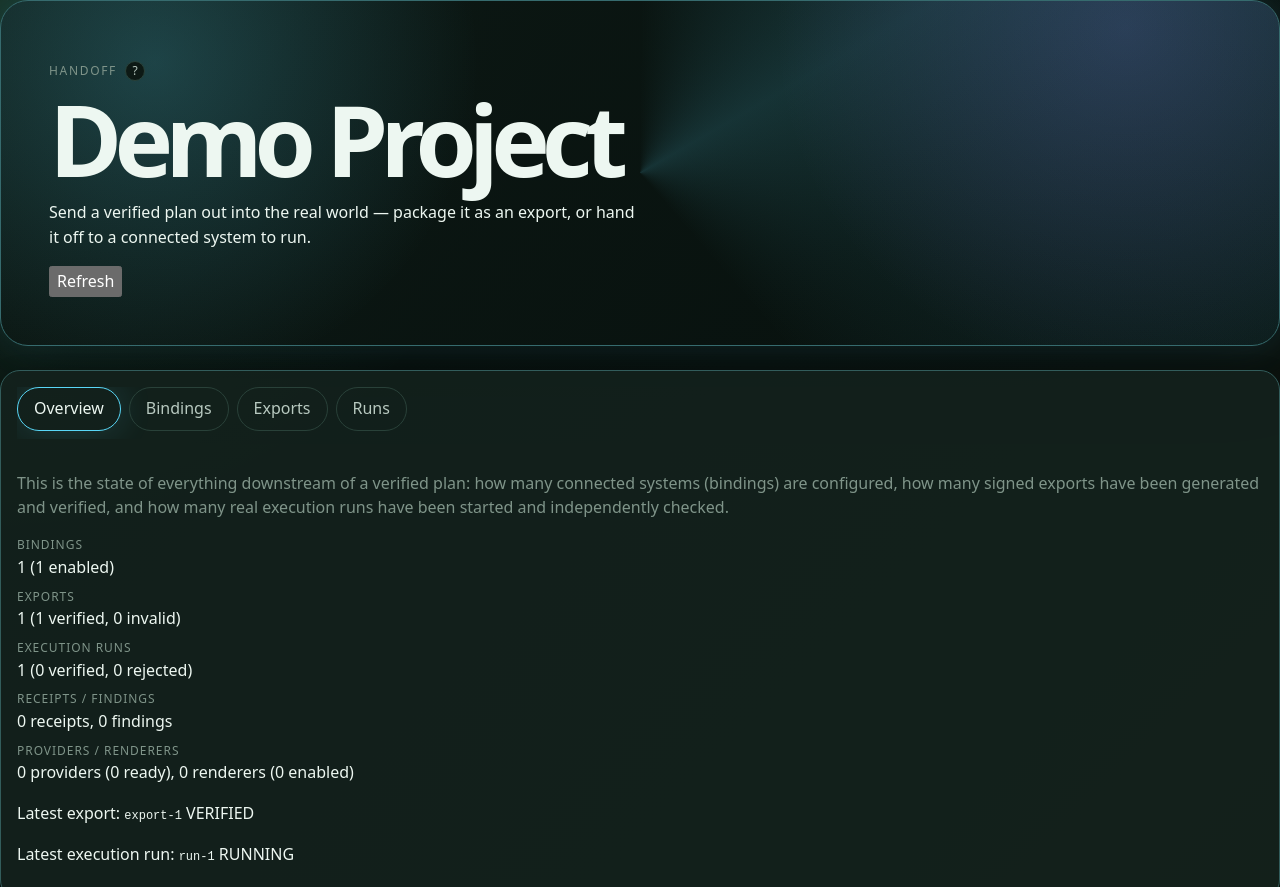
Scenario: HandoffWorkspace › offers the build plan PDF/text as a direct one-click download, not a generic label
The width and height of the screenshot is (1280, 887).
Click the tab "Exports" at (282, 409), box [237, 387, 328, 431]
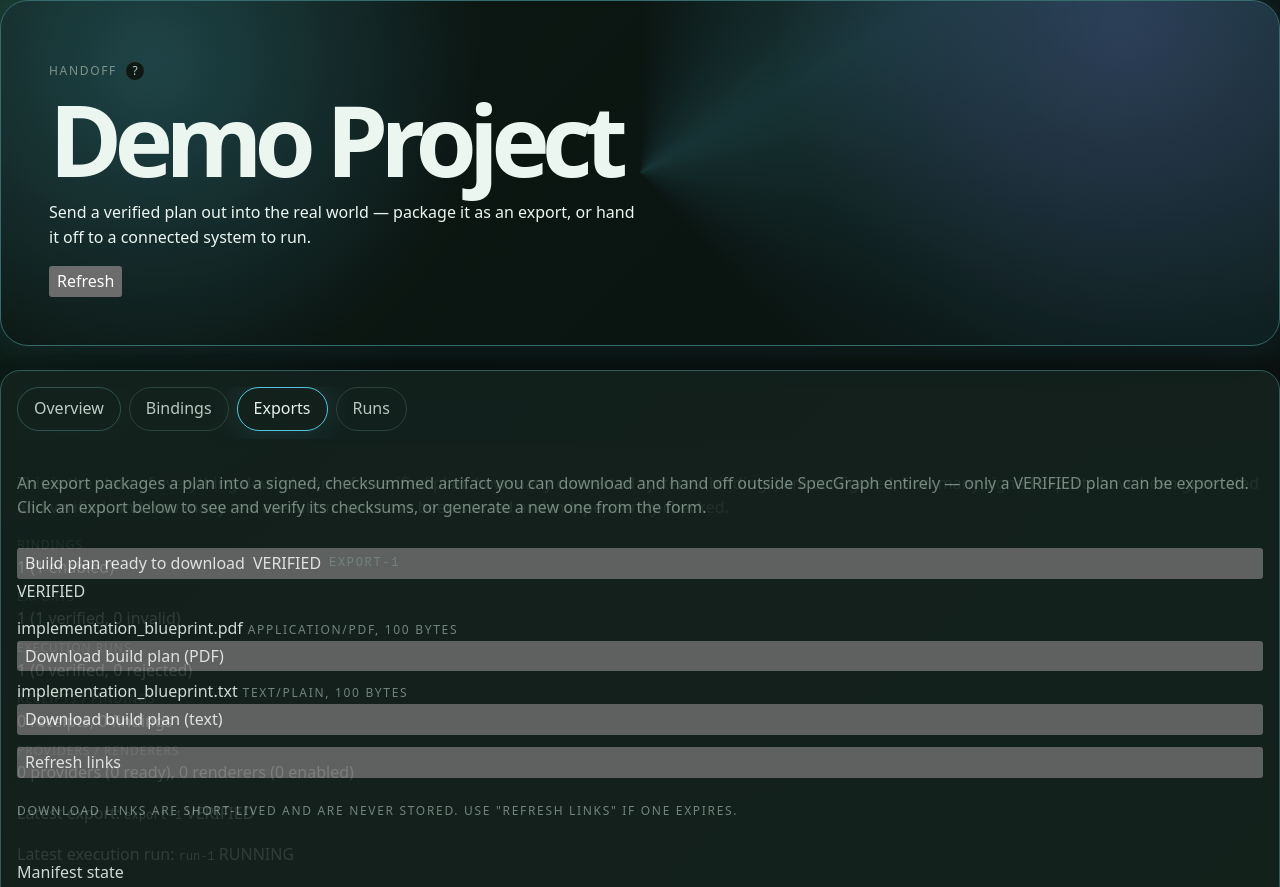
Check: the button "Download build plan (PDF)" is shown, box [17, 641, 1263, 671]
Check: the button "Download build plan (text)" is shown, box [17, 704, 1263, 735]
